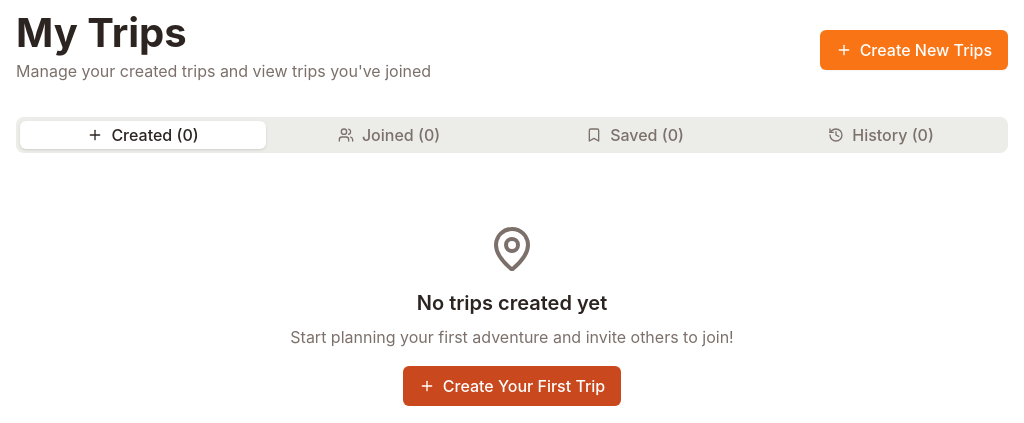
it: MyTripsPage › shows empty state for history tab
Expected: the heading "No trips created yet" is shown, [417,291,607,315]
Click the tab "History (0)".
click(881, 135)  # box [758,121,1004,149]
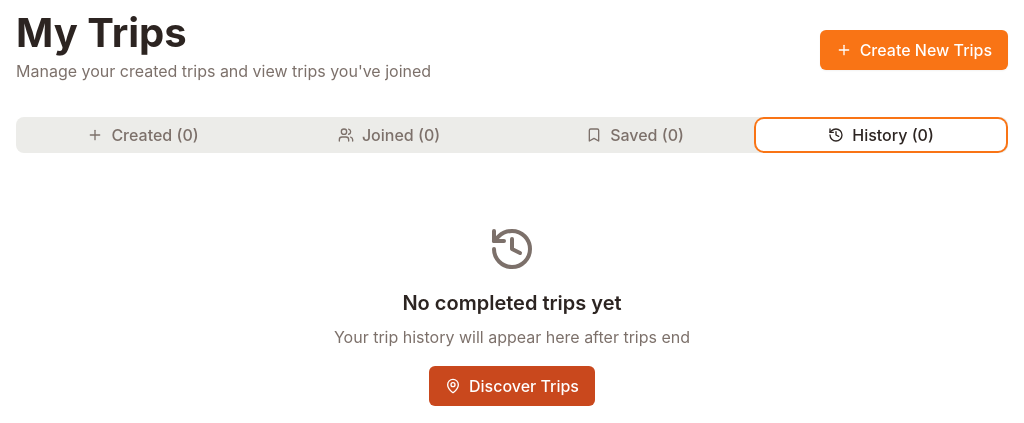
Result: the heading "No completed trips yet" is shown at [402,291,622,315]
